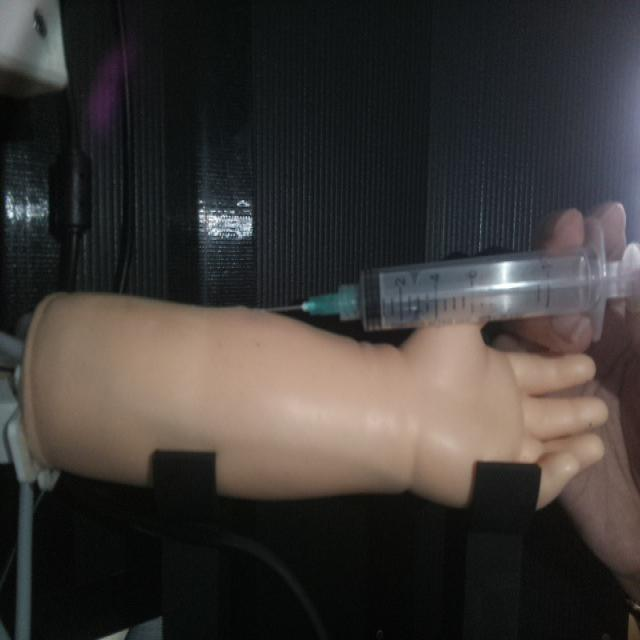Outside: (256, 223, 638, 337)
